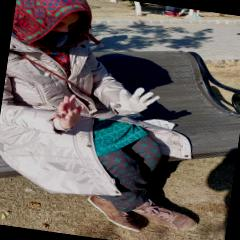gloved: (106, 82, 162, 116)
not-gloved: (42, 92, 84, 132)
